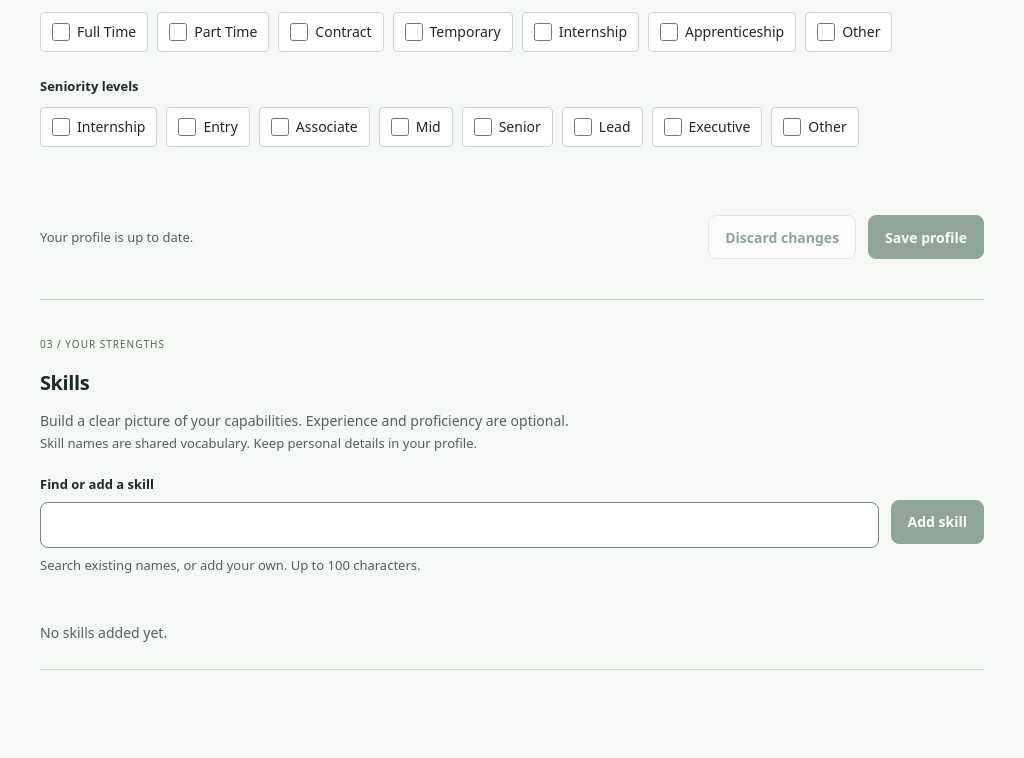
Scenario: adds and removes an owned skill using its version
(page scrolled)
In the field labelled "Find or add a skill": (459, 525) left=40, top=502, right=878, bottom=548, type "PostgreSQL"
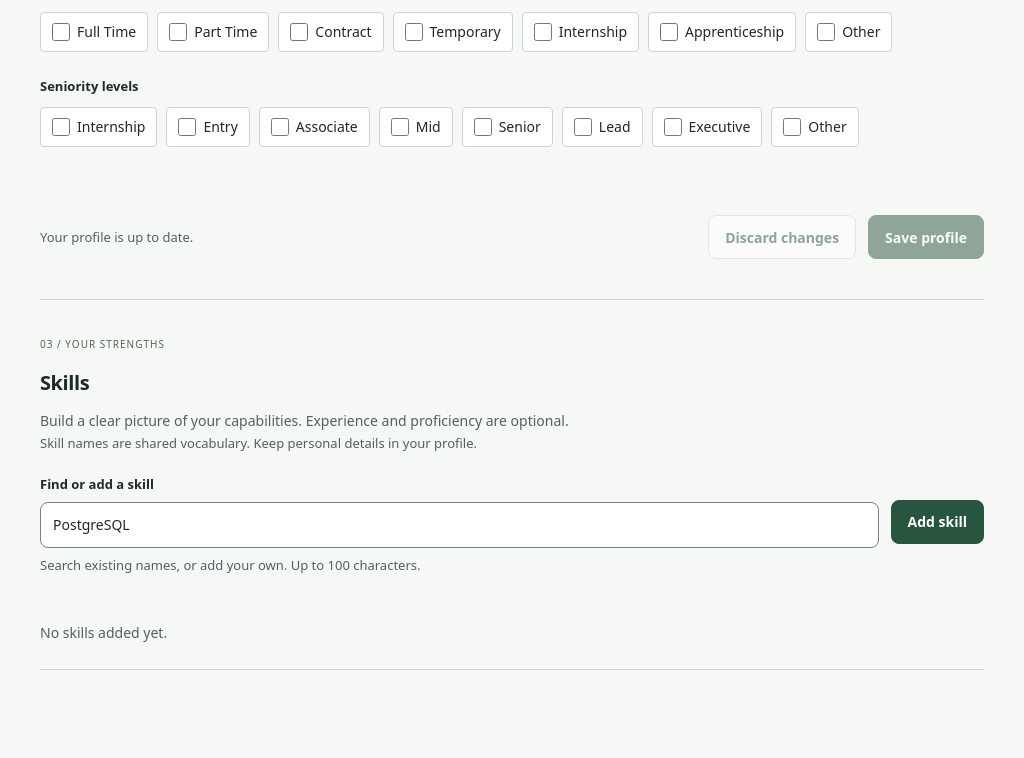
Click the button "Add skill": (937, 522) left=890, top=500, right=984, bottom=544
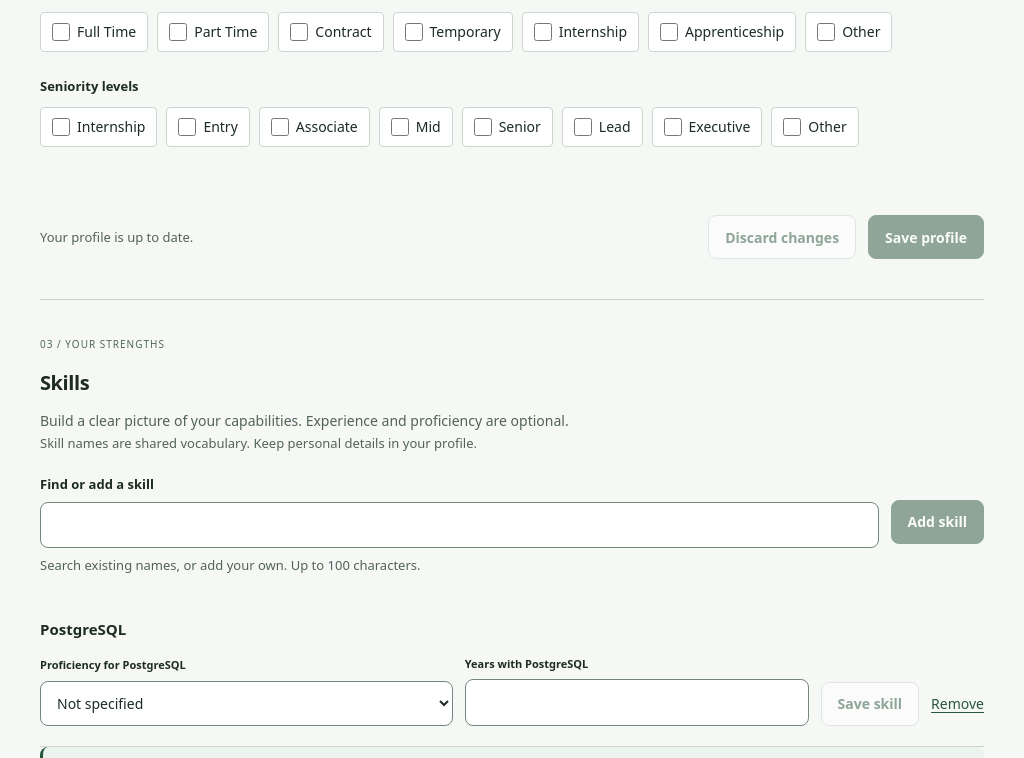
Click the button with aria-label "Remove PostgreSQL": (958, 704) left=931, top=683, right=984, bottom=726
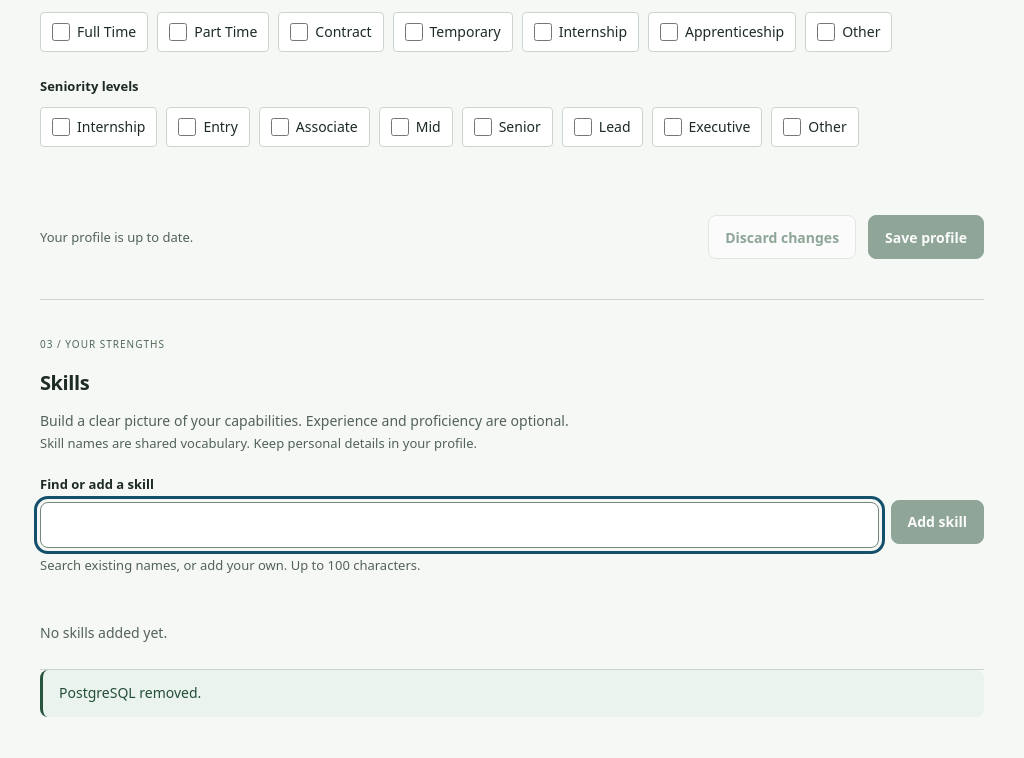
Expected: the text "PostgreSQL removed." is shown, left=40, top=670, right=984, bottom=716
Expected: the text "No skills added yet." is shown, left=40, top=597, right=984, bottom=670
